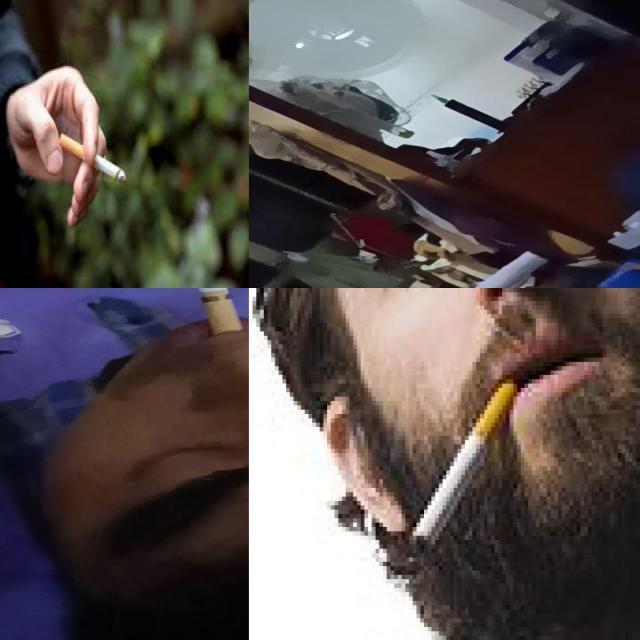cigarette: (409, 370, 514, 558), (367, 250, 553, 288), (166, 288, 248, 336), (60, 132, 127, 184)
